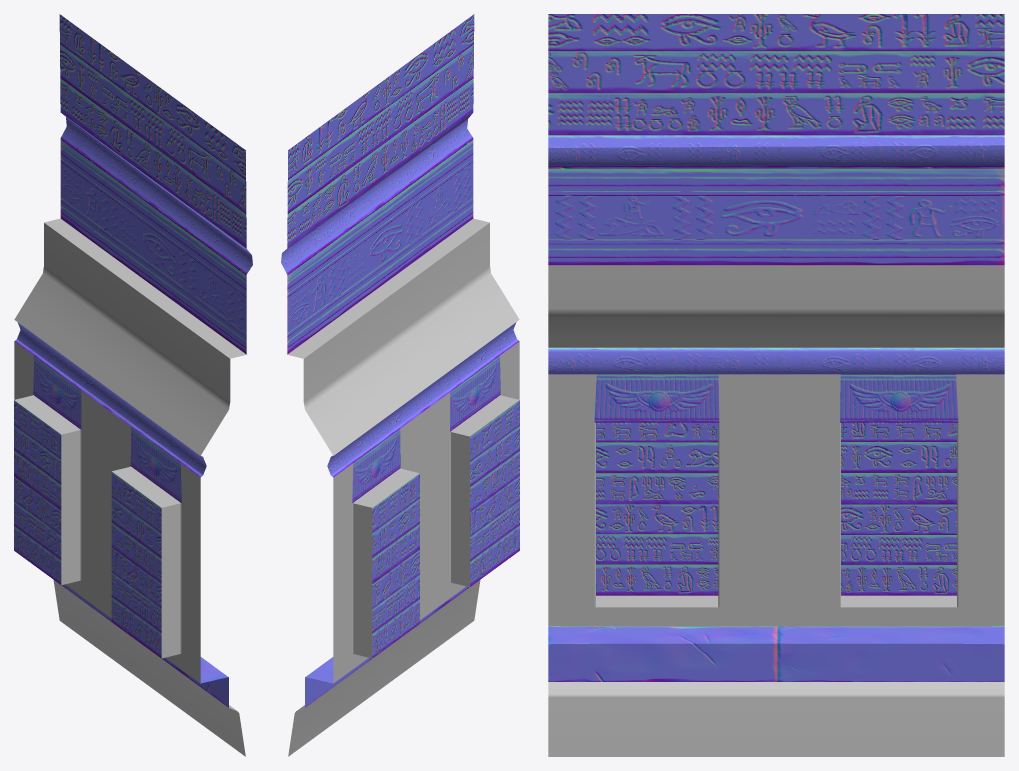
Rendered from SmallWall_Gaps.fbx.
The picture shows the model from 3 angles, left to right: view 1: azimuth 30°, elevation 25°; view 2: azimuth 150°, elevation 25°; view 3: azimuth 270°, elevation 25°; orthographic projection. The views are drawn at different scales.
Parts seen in each view (by area): view 1: RoomWallGaped_Small; view 2: RoomWallGaped_Small; view 3: RoomWallGaped_Small.
Part boxes in pixels (x1=…): RoomWallGaped_Small: x1=14, y1=14, x2=252, y2=756; RoomWallGaped_Small: x1=281, y1=14, x2=519, y2=756; RoomWallGaped_Small: x1=548, y1=14, x2=1004, y2=756.
Size of the model in its own units: 3.25 by 26.12 by 14.53.
